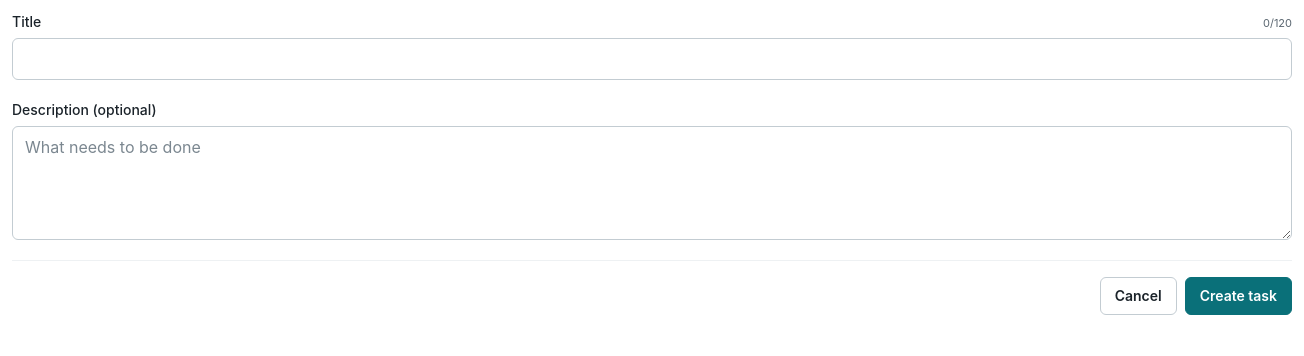
Test case: TaskForm › shows the validation error next to the field and announces it
The image size is (1304, 356).
Step 1. Click the button "Create task" → {"x": 1238, "y": 296}, box left=1185, top=277, right=1292, bottom=315
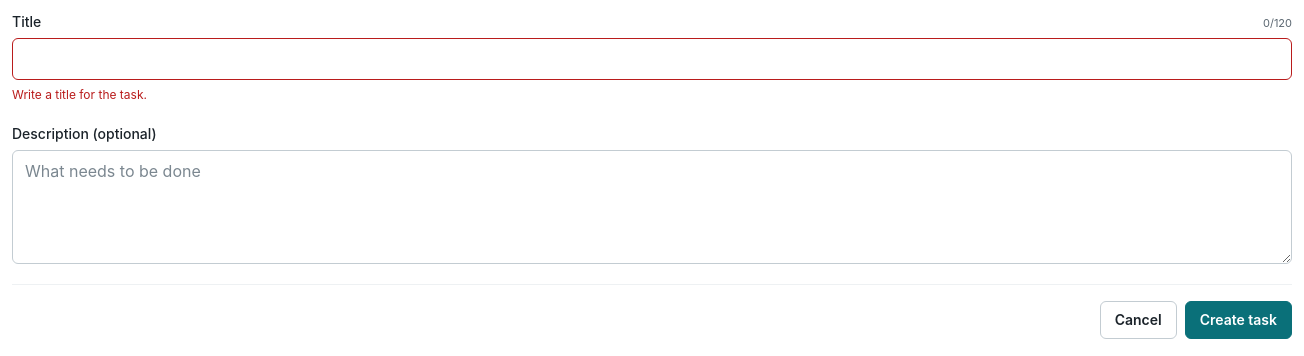
expect the message reads "Write a title for the task.": met, box left=12, top=87, right=147, bottom=102
